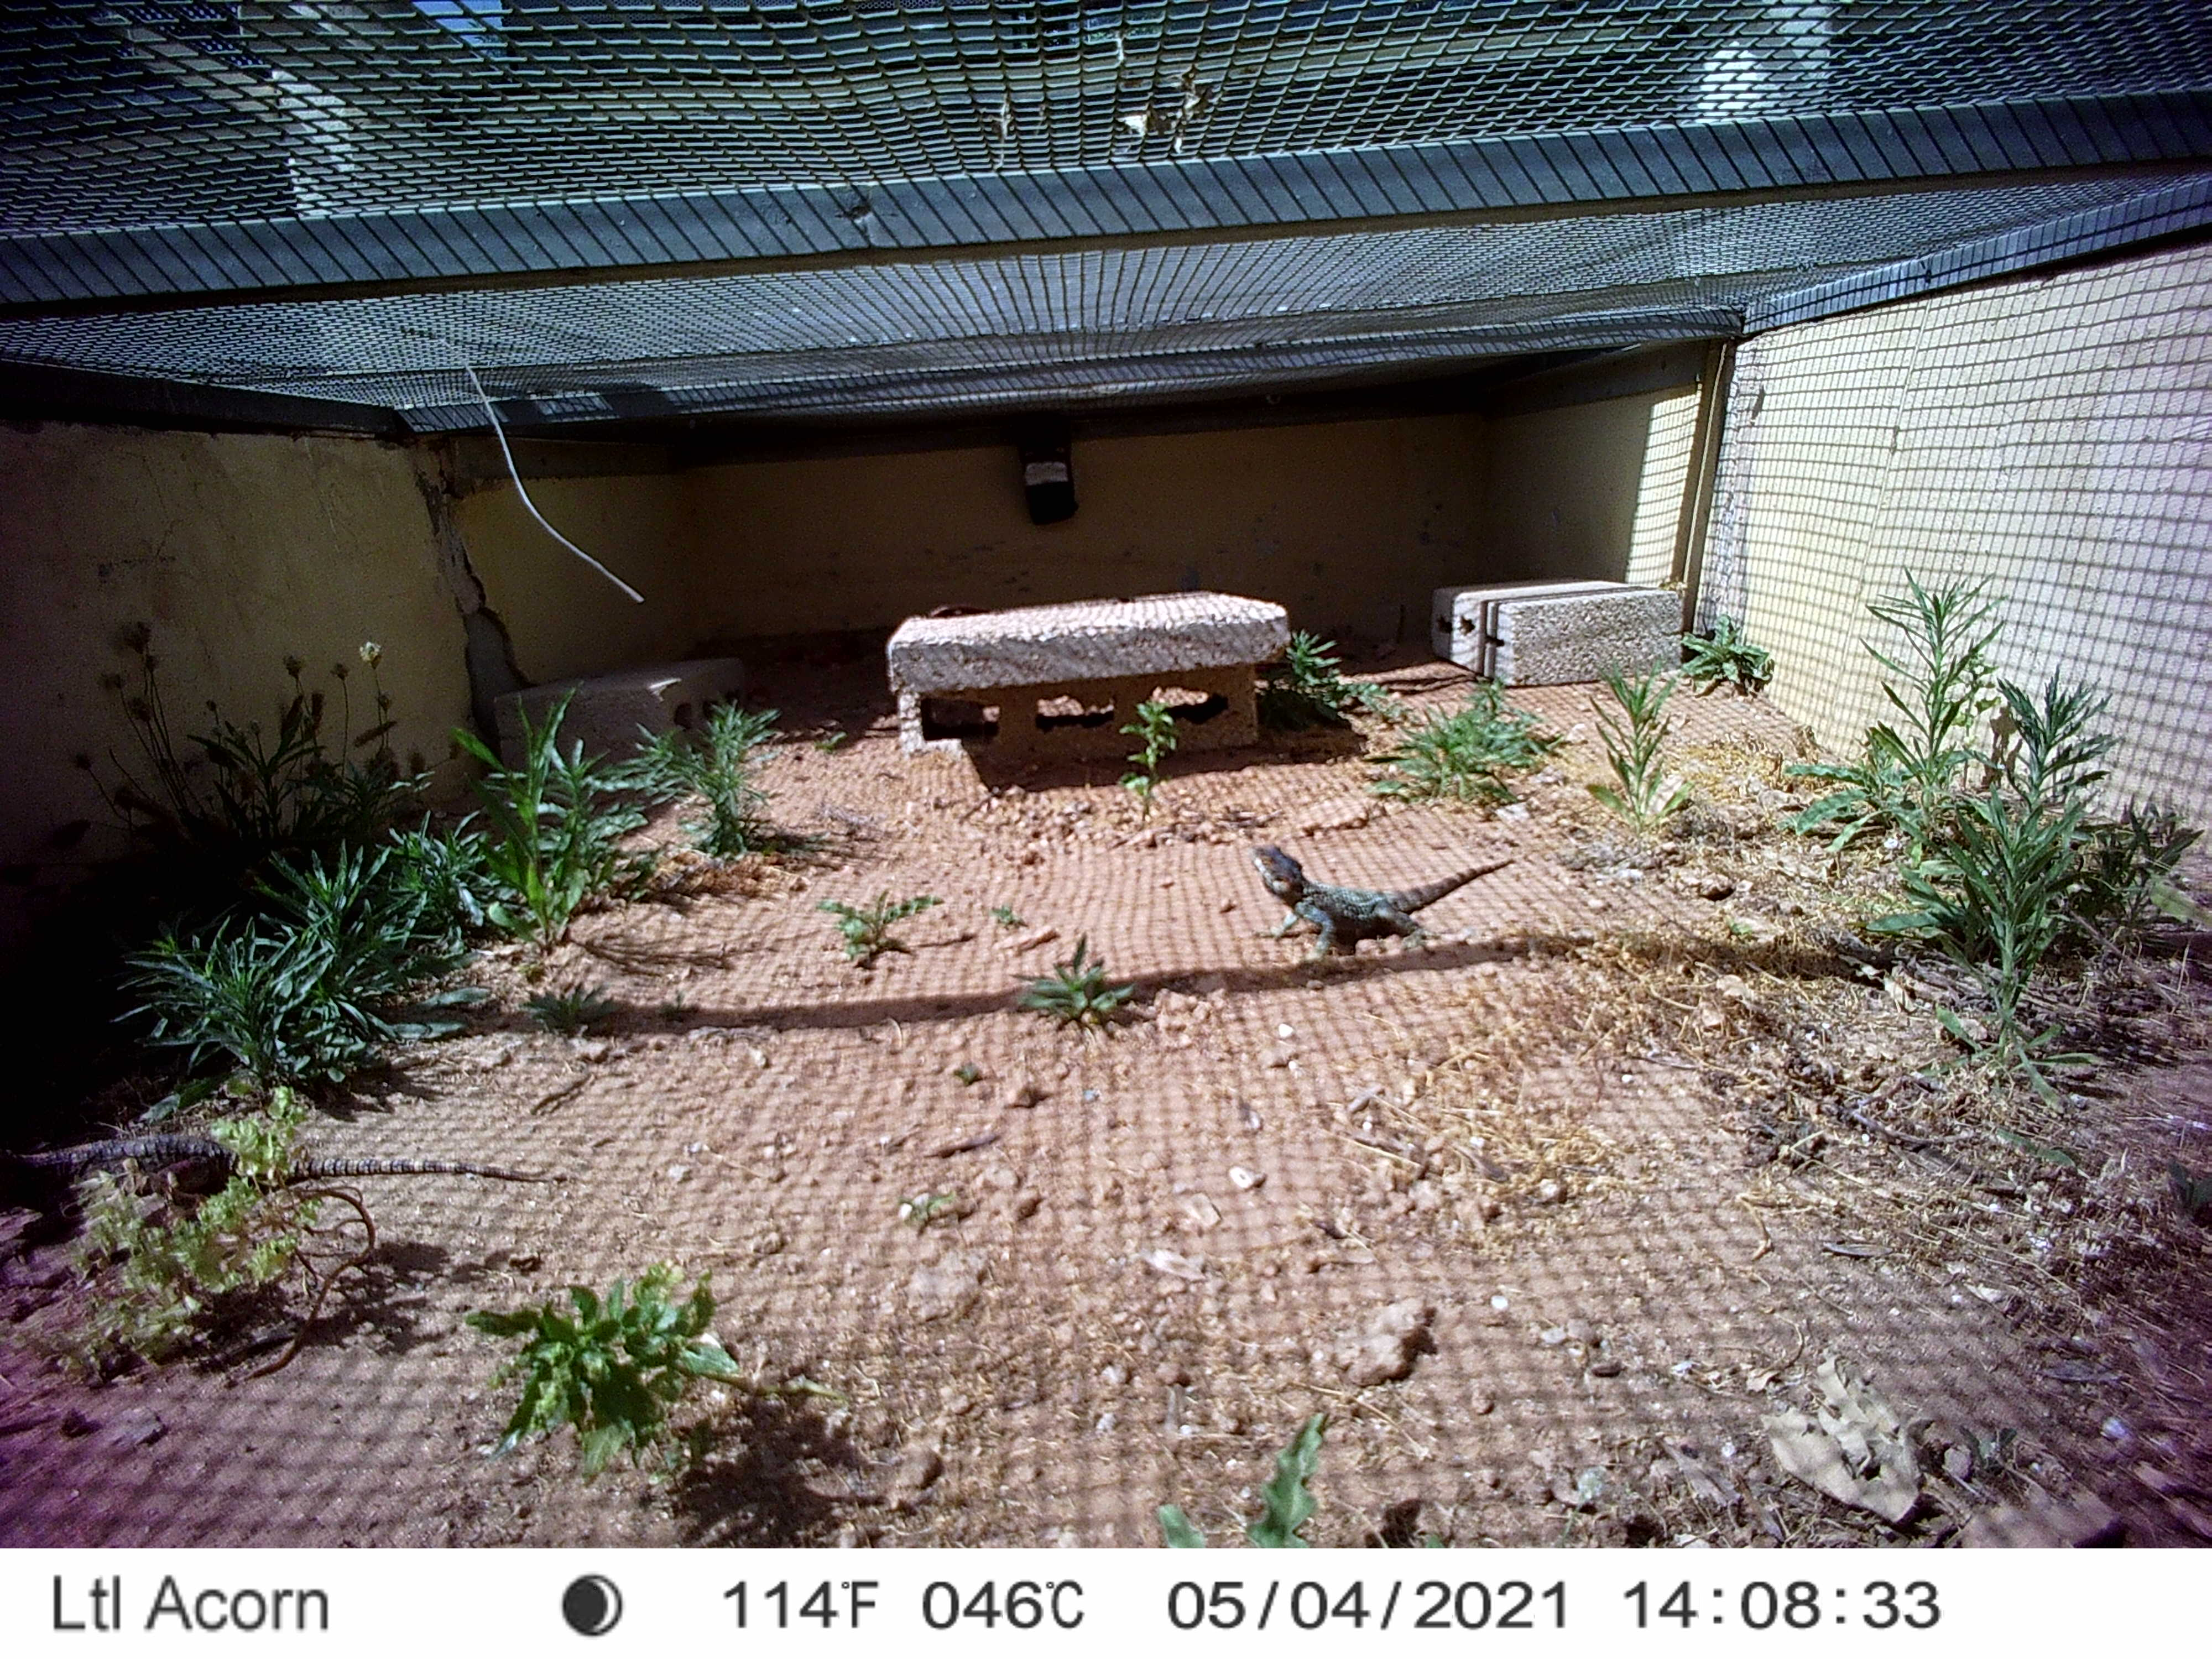lizard: (0, 1131, 549, 1208), (1244, 842, 1519, 955)
